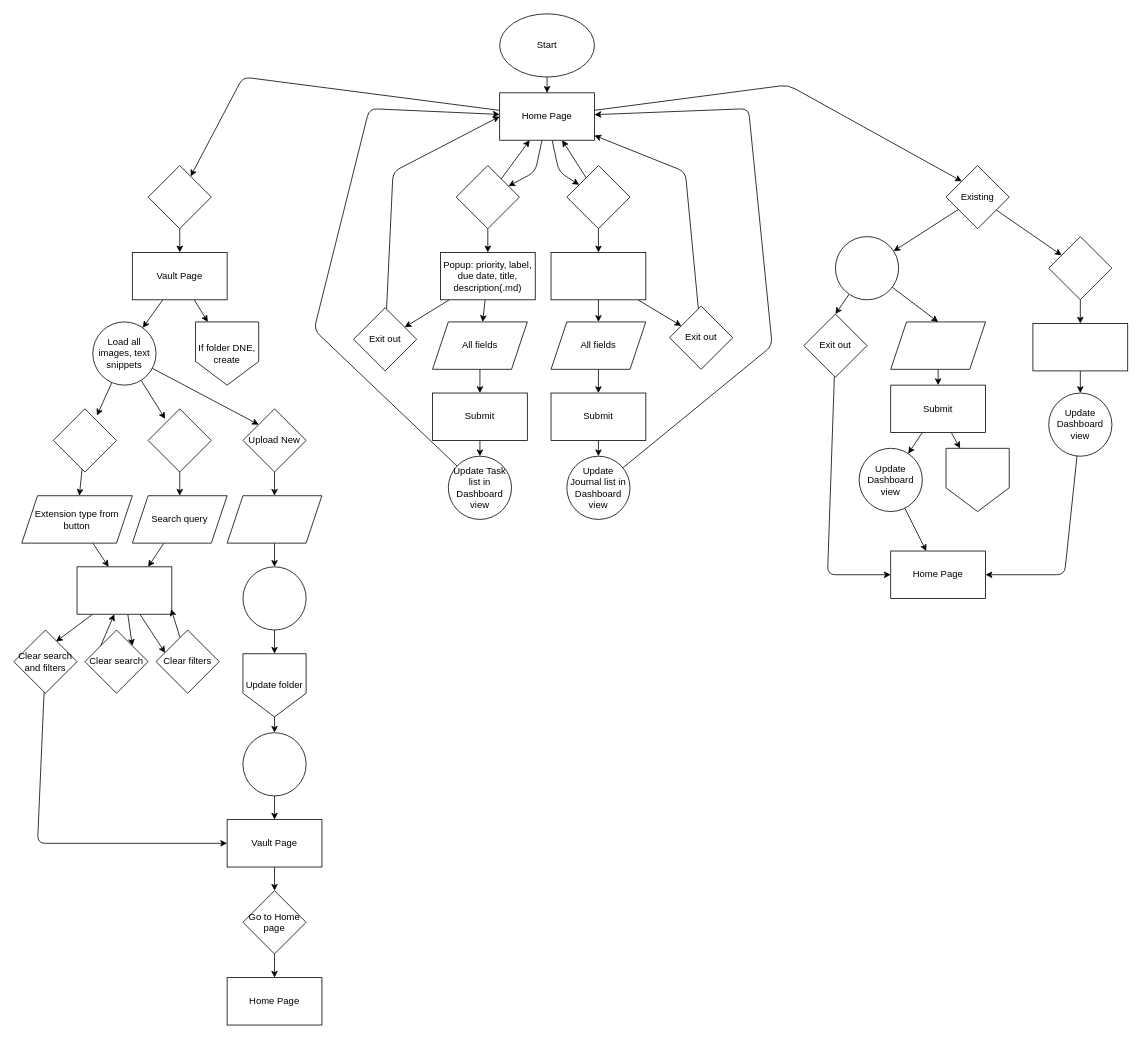
Some shapes in this 1142 by 1039 pixel diagram are drawn without their labels. Here are the shapes that lost their labels. From the top down, the centre of each, then its label:
(179,197): Vault
(487,197): Create Task
(598,197): Create Journal
(598,276): Popup: title, description(.md)
(867,268): All fields autopopulate for object
(1080,268): Deleting
(938,345): Modify changes
(1080,347): Popup: Confirm delete
(85,440): Filter
(179,440): Search
(977,480): If task and due date not in current view, modify
(274,519): Uploaded file
(124,590): Filter page
(274,598): Parse extension
(274,764): Re-render vault items
